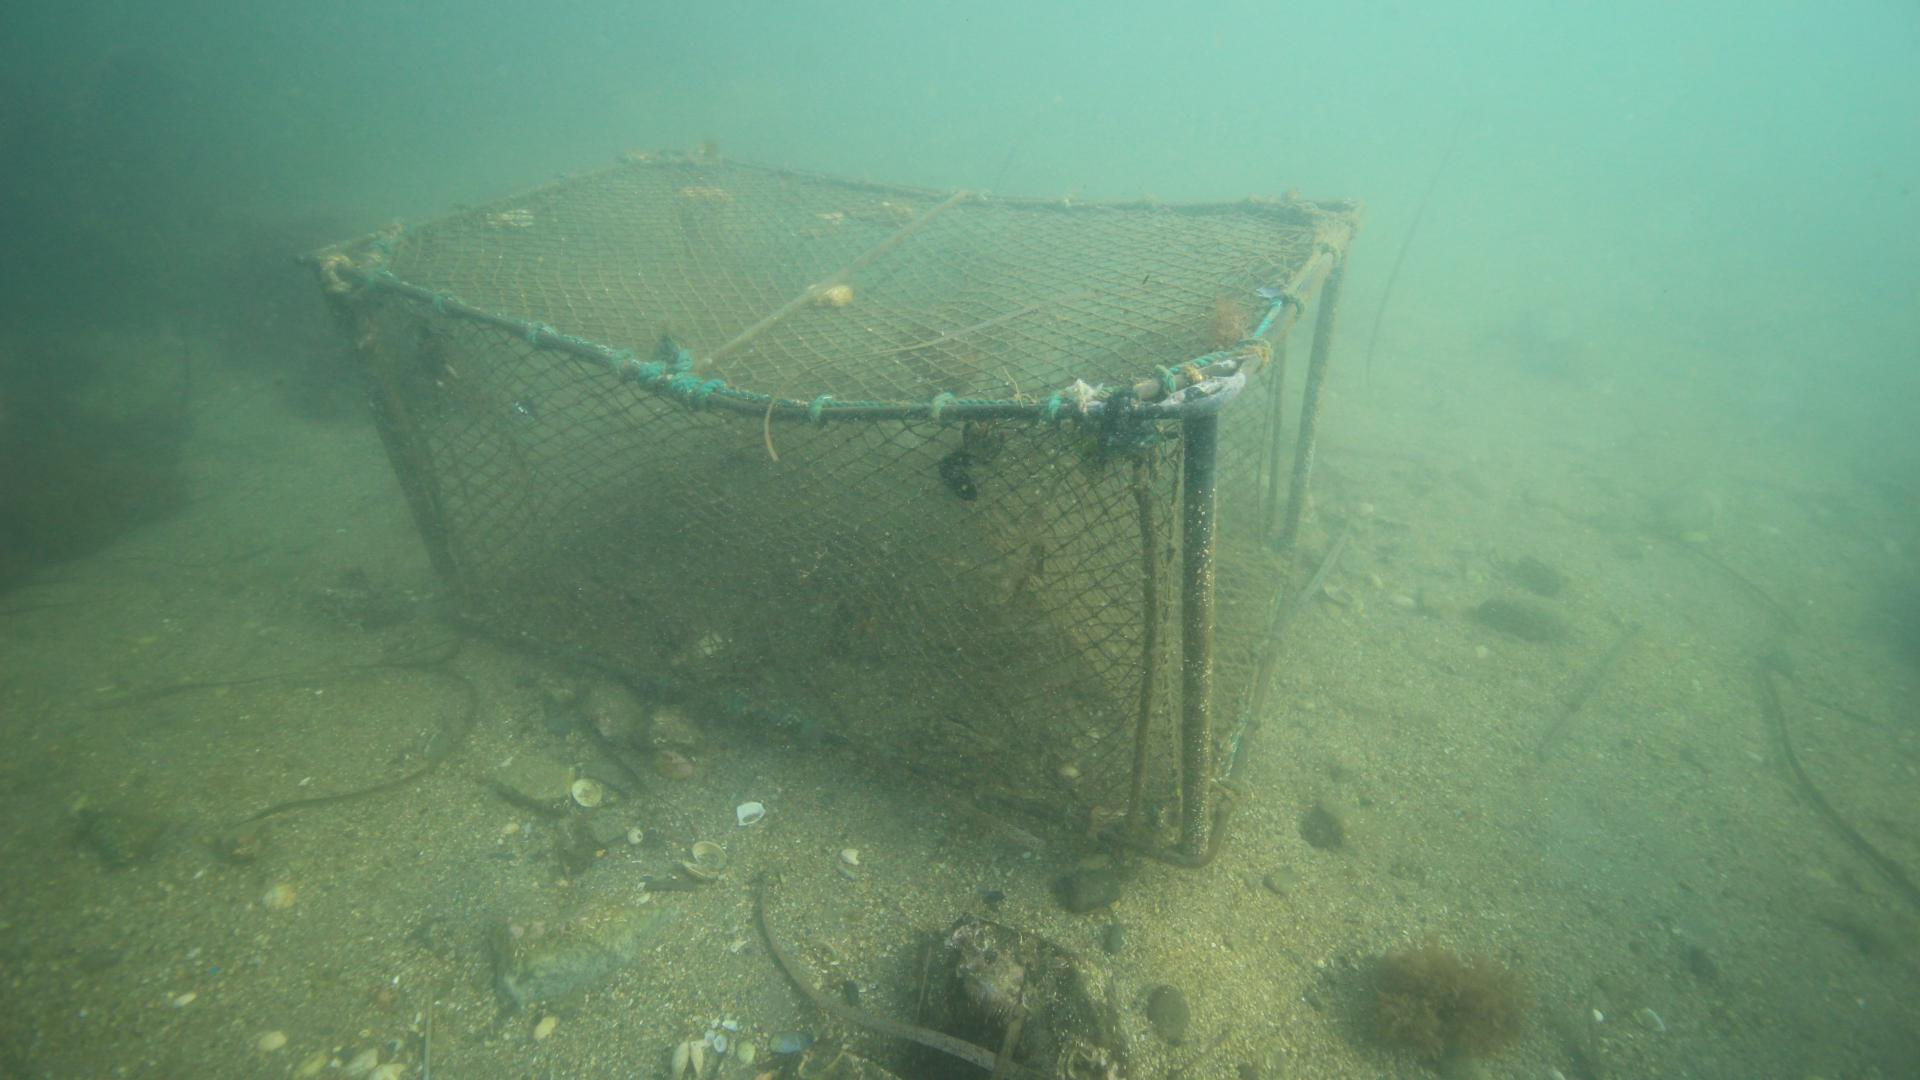rectangular fish trap: (295, 146, 1364, 869)
